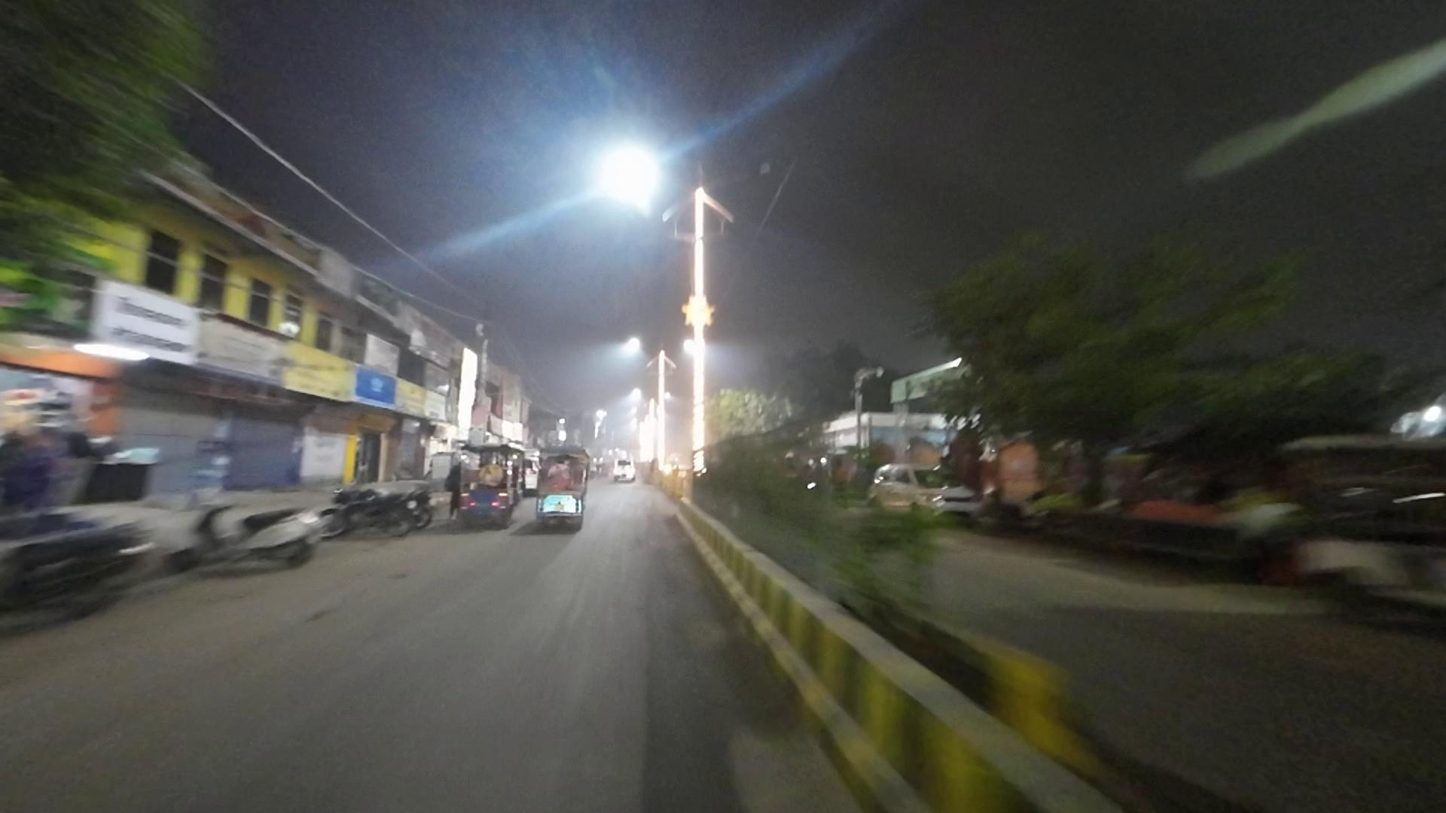streetlight: (708, 157, 774, 187)
